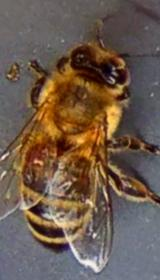varroa_mite: (24, 133, 61, 170)
